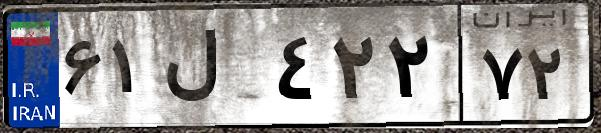1: (110, 28, 158, 98)
2: (385, 28, 445, 110), (330, 28, 385, 110), (525, 38, 570, 115)
4: (270, 28, 330, 110)
6: (57, 26, 110, 100)
7: (475, 38, 525, 113)
ل: (158, 20, 270, 120)
